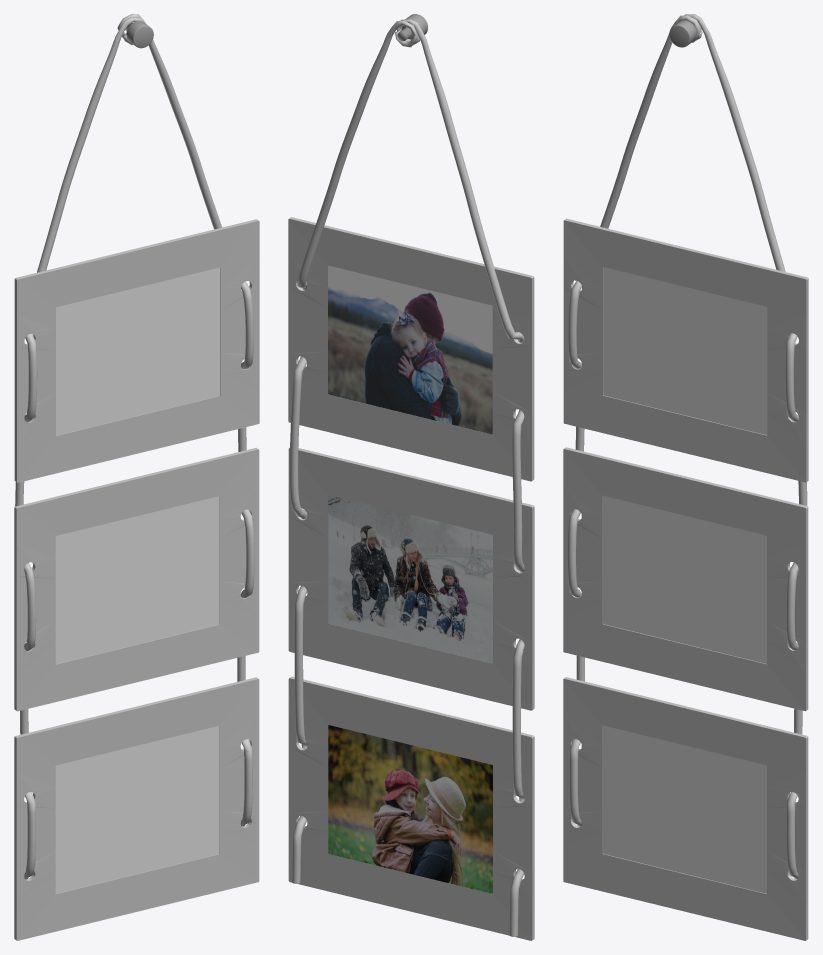
The model's file is 3 Hanging Picture Photo Frames.fbx.
3 renders of one model, left to right at view 1: azimuth 30°, elevation 25°; view 2: azimuth 150°, elevation 25°; view 3: azimuth 330°, elevation 25°, orthographic.
Parts seen in each view (by area): view 1: Wood Frame 3, Wood Frame 2, Wood Frame 1, Glass Frame 3, Glass Frame 2, Glass Frame, Cylinder.002, Cylinder, Cylinder.001; view 2: Wood Frame 3, Wood Frame 2, Wood Frame 1, Picture 2, Picture, Picture 3, Cylinder.002, Cylinder; view 3: Wood Frame 1, Wood Frame 3, Wood Frame 2, Glass Frame, Glass Frame 2, Glass Frame 3, Cylinder, Cylinder.002, Cylinder.001.
Boxes of the visible parts, x1,y1,x2,y2 form: Wood Frame 3: [14, 677, 259, 940]; Wood Frame 2: [14, 447, 259, 711]; Wood Frame 1: [14, 219, 259, 482]; Glass Frame 3: [55, 725, 219, 893]; Glass Frame 2: [55, 496, 219, 663]; Glass Frame: [56, 267, 219, 435]; Cylinder.002: [15, 17, 143, 879]; Cylinder: [117, 14, 254, 826]; Cylinder.001: [125, 21, 153, 48]; Wood Frame 3: [288, 676, 534, 940]; Wood Frame 2: [288, 448, 534, 710]; Wood Frame 1: [288, 217, 534, 481]; Picture 2: [328, 495, 492, 663]; Picture: [328, 265, 492, 434]; Picture 3: [328, 725, 492, 893]; Cylinder.002: [396, 19, 524, 936]; Cylinder: [289, 20, 418, 883]; Wood Frame 1: [563, 218, 808, 482]; Wood Frame 3: [563, 677, 808, 940]; Wood Frame 2: [563, 447, 808, 711]; Glass Frame: [603, 267, 767, 435]; Glass Frame 2: [603, 495, 766, 663]; Glass Frame 3: [603, 725, 766, 893]; Cylinder: [684, 14, 807, 878]; Cylinder.002: [567, 15, 701, 826]; Cylinder.001: [669, 20, 696, 47].
Size of the model in its own units: 200 by 702 by 23.03.
